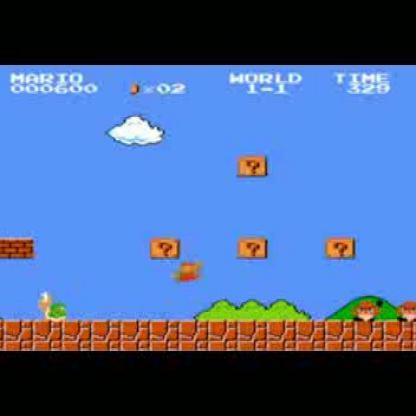Goomba: (352, 293, 384, 322), (396, 293, 415, 322)
Tortuga: (35, 284, 73, 320)
